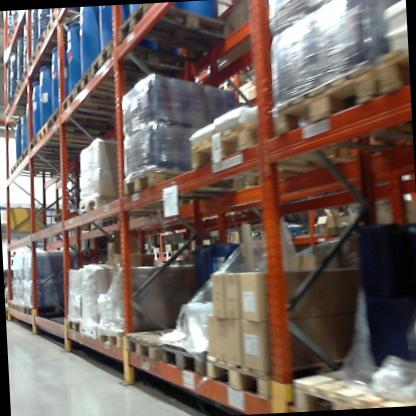pallet: (181, 112, 382, 192), (271, 56, 410, 169), (202, 344, 353, 410), (116, 0, 238, 58), (293, 365, 416, 410), (125, 168, 277, 203), (86, 35, 181, 90), (53, 85, 153, 125), (372, 37, 411, 135), (72, 67, 152, 111), (123, 325, 203, 368), (40, 105, 118, 149), (31, 123, 110, 162), (77, 199, 190, 223), (23, 133, 87, 168), (21, 47, 74, 86), (8, 157, 89, 182), (16, 144, 82, 174), (43, 6, 101, 36), (161, 336, 204, 374), (31, 28, 73, 60), (0, 98, 43, 122), (21, 302, 67, 320), (11, 75, 44, 99), (98, 320, 124, 349), (76, 314, 101, 343), (63, 314, 82, 339), (53, 209, 73, 226), (7, 301, 19, 314), (160, 248, 174, 258), (150, 249, 164, 258)
